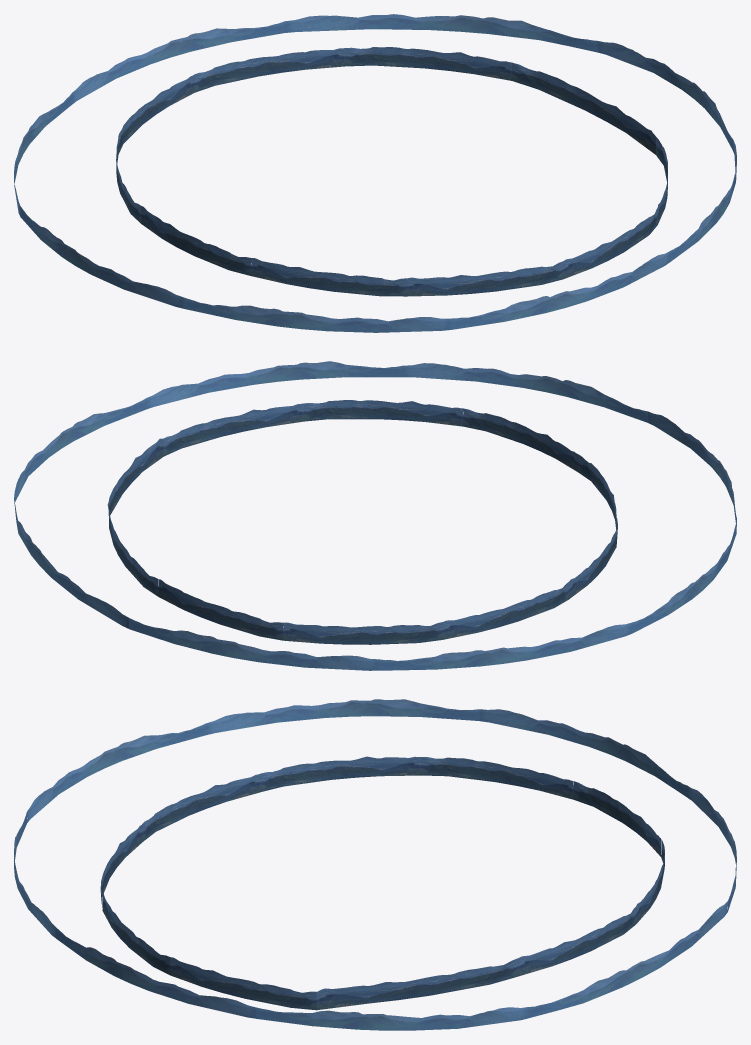
Rendered from Canada_track_terrain_wall.dae.
3 renders of one model, top to bottom at view 1: azimuth 30°, elevation 25°; view 2: azimuth 150°, elevation 25°; view 3: azimuth 270°, elevation 25°, orthographic. The views are drawn at different scales.
Parts seen in each view (by area): view 1: terrain_Wall_01, terrain_Wall_02; view 2: terrain_Wall_02, terrain_Wall_01; view 3: terrain_Wall_01, terrain_Wall_02.
Part boxes in pixels (x1,y1,x2,y2): terrain_Wall_01: (116,47,667,296); terrain_Wall_02: (14,14,736,332); terrain_Wall_02: (14,361,736,670); terrain_Wall_01: (107,400,617,644); terrain_Wall_01: (100,756,664,1010); terrain_Wall_02: (14,699,736,1030).
Size of the model in its own units: 286 by 278 by 13.71.
1 material, 1 textured.
